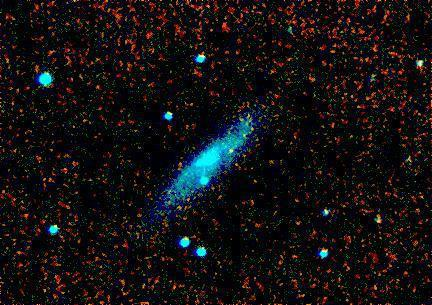star: (214, 135, 244, 165)
